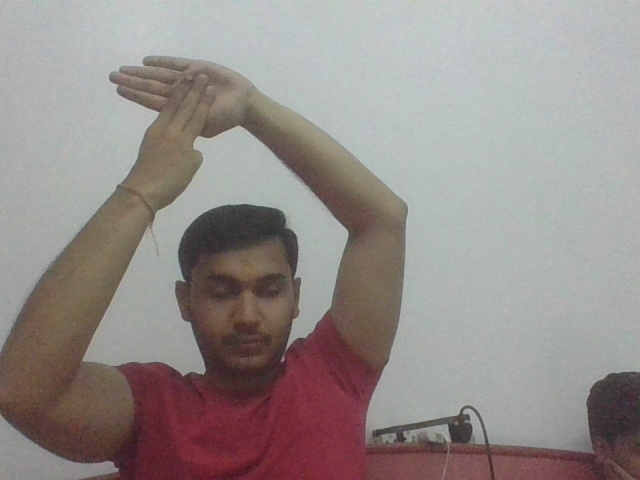M: (107, 52, 248, 180)
